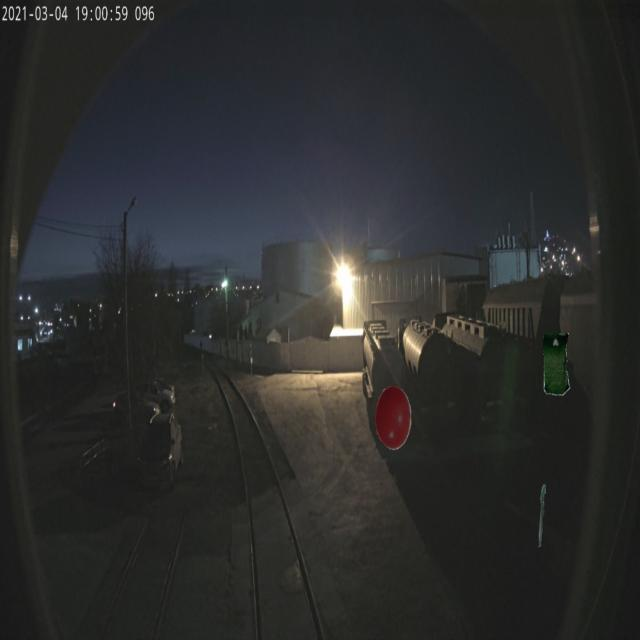balloon: (375, 386, 411, 450)
floating object: (538, 483, 546, 547)
plastic bag: (543, 332, 570, 396)
